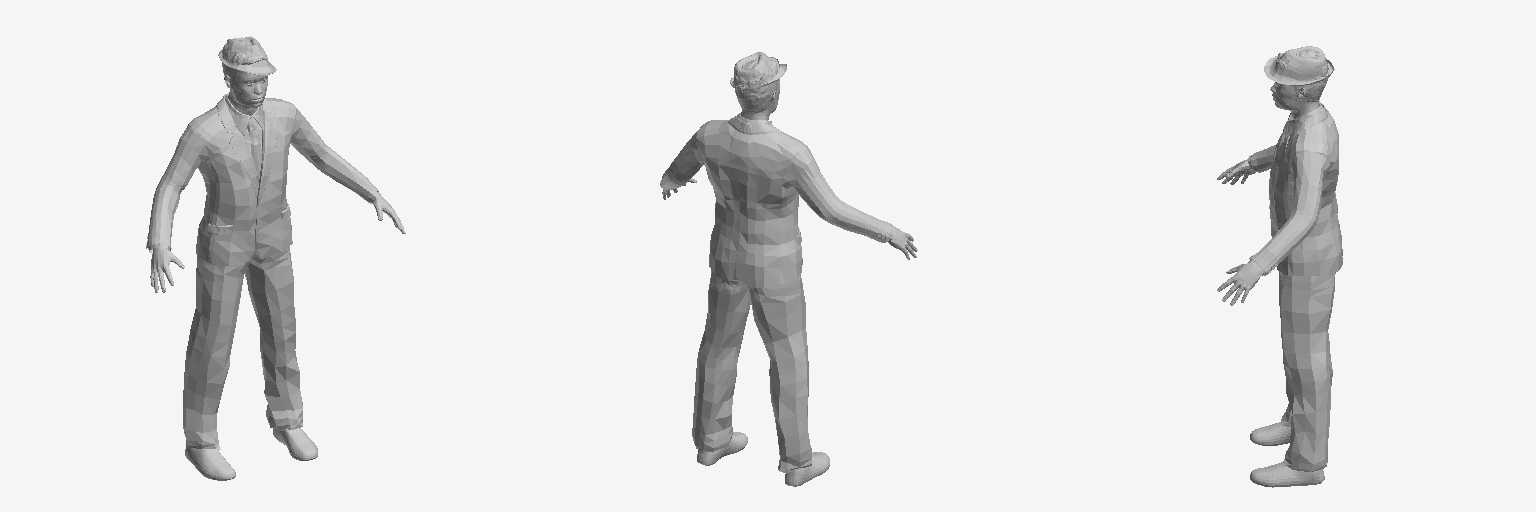
Rendered from manoBom.obj.
3 renders of one model, left to right at view 1: azimuth 30°, elevation 25°; view 2: azimuth 150°, elevation 25°; view 3: azimuth 270°, elevation 25°, orthographic.
Parts seen in each view (by area): view 1: suit01lres.obj, base.obj, shoes02.obj, fedora_cocked.obj; view 2: suit01lres.obj, shoes02.obj, base.obj, fedora_cocked.obj; view 3: suit01lres.obj, base.obj, shoes02.obj, fedora_cocked.obj.
Part boxes in pixels (x1,y1,x2,y2): suit01lres.obj: (146, 93, 380, 449); base.obj: (150, 71, 405, 292); shoes02.obj: (185, 428, 317, 480); fedora_cocked.obj: (218, 36, 276, 75); suit01lres.obj: (660, 113, 893, 472); shoes02.obj: (697, 432, 829, 486); base.obj: (662, 79, 917, 455); fedora_cocked.obj: (730, 52, 786, 90); suit01lres.obj: (1247, 101, 1342, 471); base.obj: (1217, 82, 1318, 305); shoes02.obj: (1250, 422, 1324, 487); fedora_cocked.obj: (1264, 46, 1334, 85).
Size of the model in its own units: 10.95 by 17.33 by 4.79.